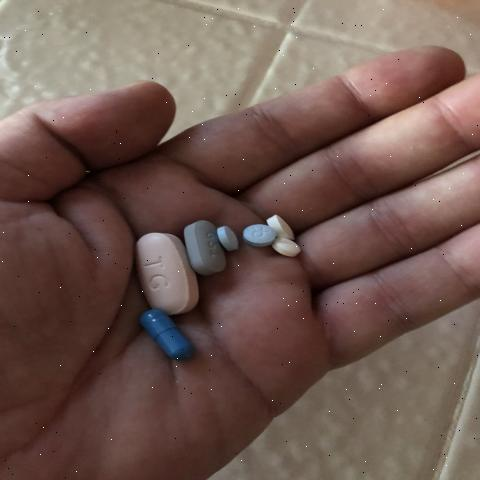Pill: (126, 230, 200, 316), (270, 214, 306, 246)
